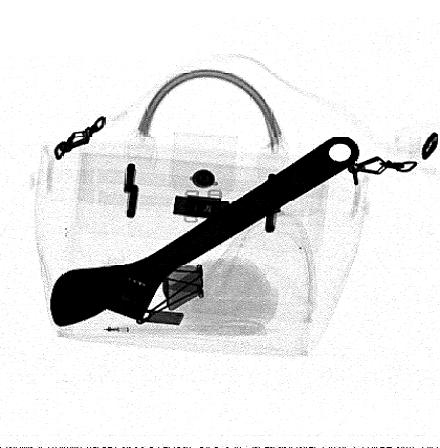Wrench: (48, 134, 362, 329)
